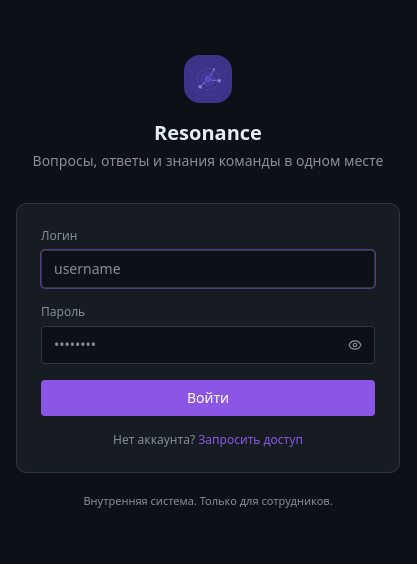
Test: LoginPage › keeps a failed profile request on the login form with an error
The width and height of the screenshot is (417, 564).
Step 1. Type "admin" into the field labelled "Логин" → (208, 269), box [41,250,375,288]
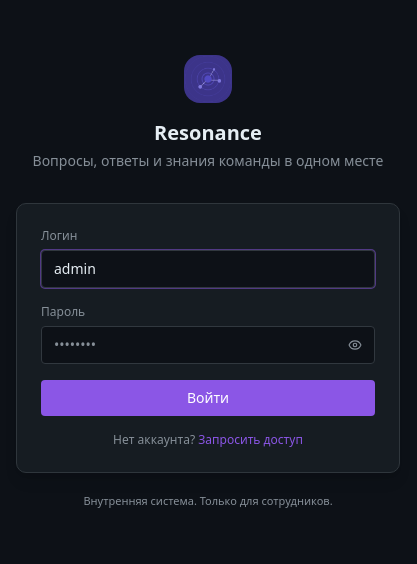
Step 2. Type "secret123" into the password field labelled "Пароль" → (208, 345), box [41,326,375,364]
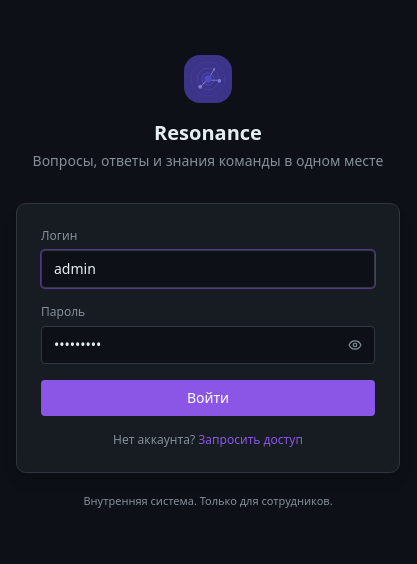
Step 3. Click the button "Войти" → (208, 398), box [41,380,375,416]
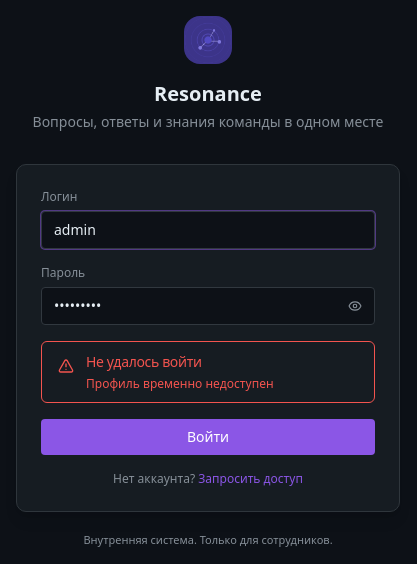
Expected: the message with test id "alert-auth-error" shows "Профиль временно недоступен", [86,375,274,392]
